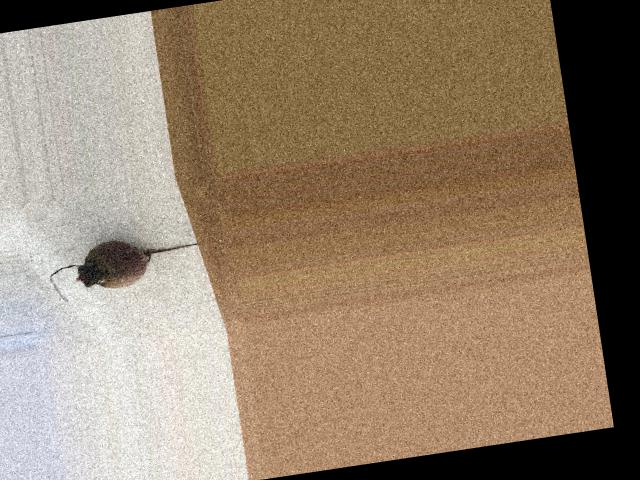beet: (47, 227, 207, 303)
